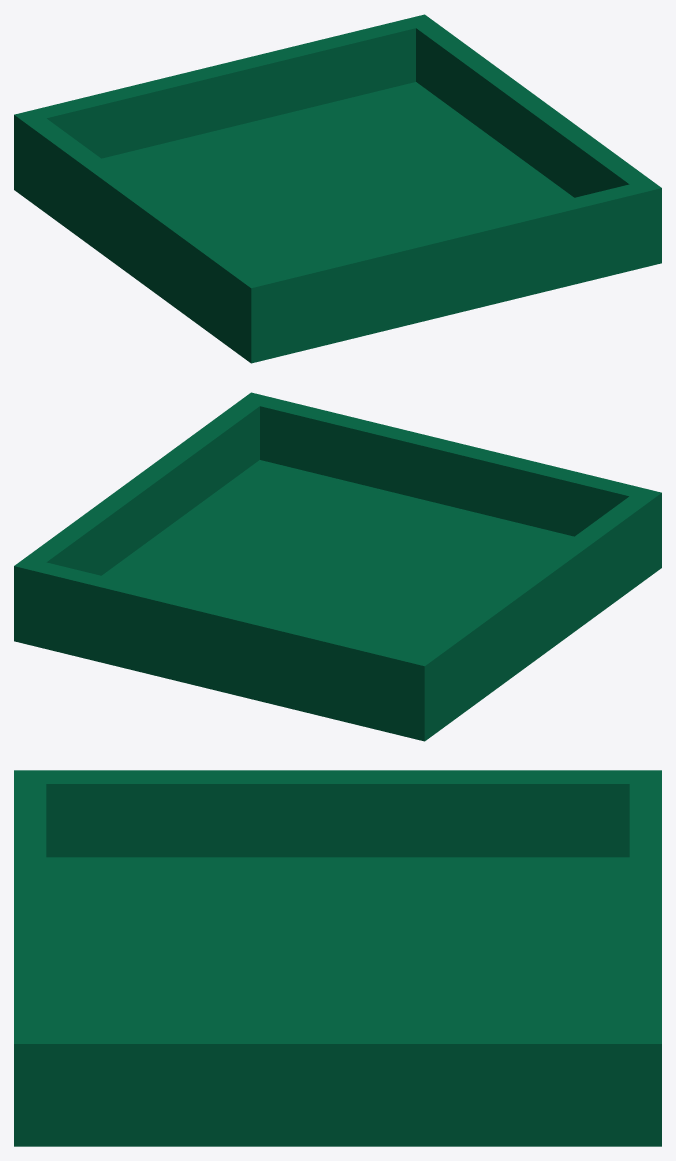
Rendered from GreenRoof_4Edges.glb.
3 renders of one model, top to bottom at view 1: azimuth 30°, elevation 25°; view 2: azimuth 150°, elevation 25°; view 3: azimuth 270°, elevation 25°, orthographic. The views are drawn at different scales.
Parts seen in each view (by area): view 1: roof_flat_4Edges_green; view 2: roof_flat_4Edges_green; view 3: roof_flat_4Edges_green.
Part boxes in pixels (<box>): roof_flat_4Edges_green: <box>14,14,661,363</box>; roof_flat_4Edges_green: <box>14,392,661,741</box>; roof_flat_4Edges_green: <box>14,770,661,1146</box>.
Size of what is drawn, in the model's own units: 4 by 0.7 by 4.
Materials: 1 (1 with a texture image).
